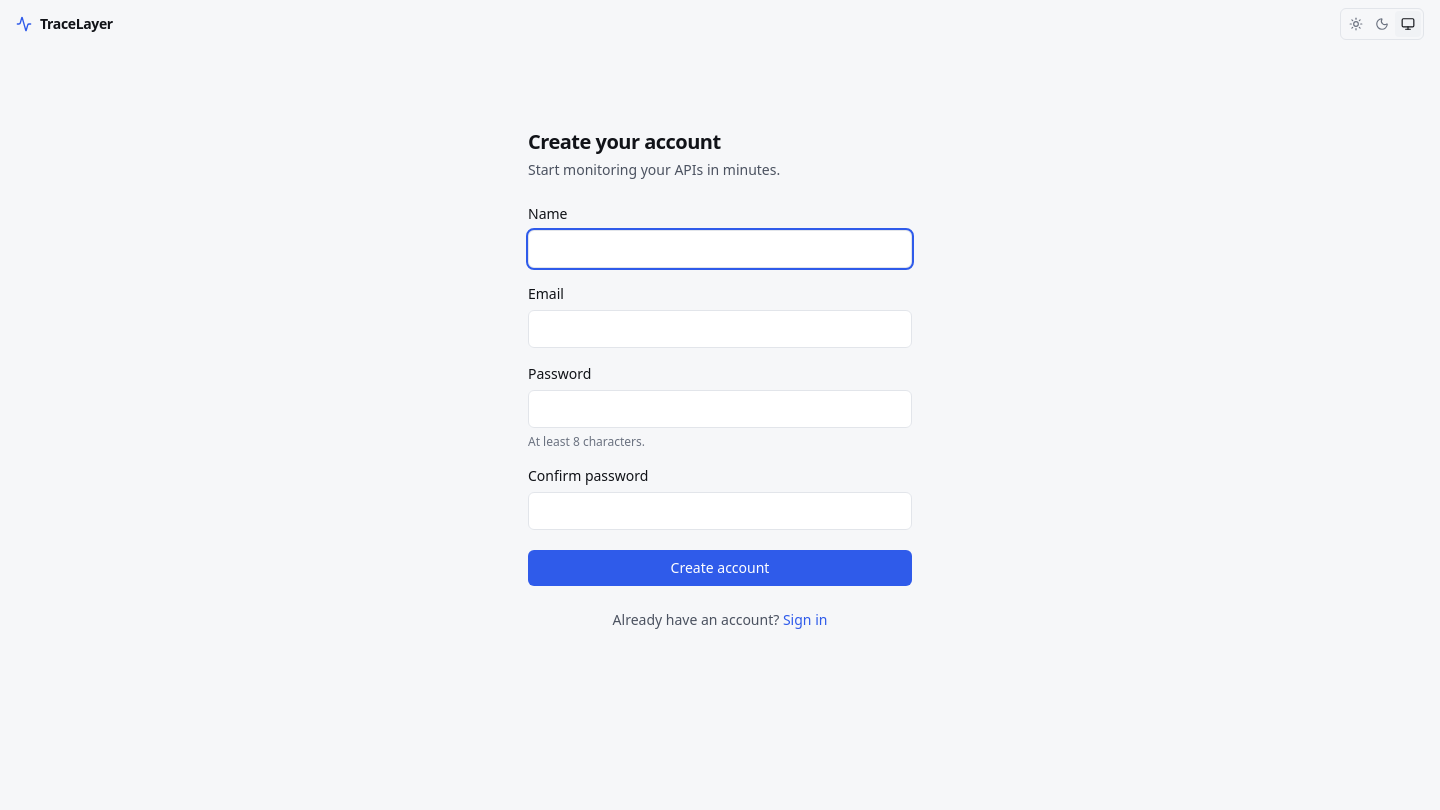
Test: create account › shows a duplicate-email conflict on the email field
In the field labelled "Name": (720, 249) [528, 230, 912, 268], type "Ada Lovelace"
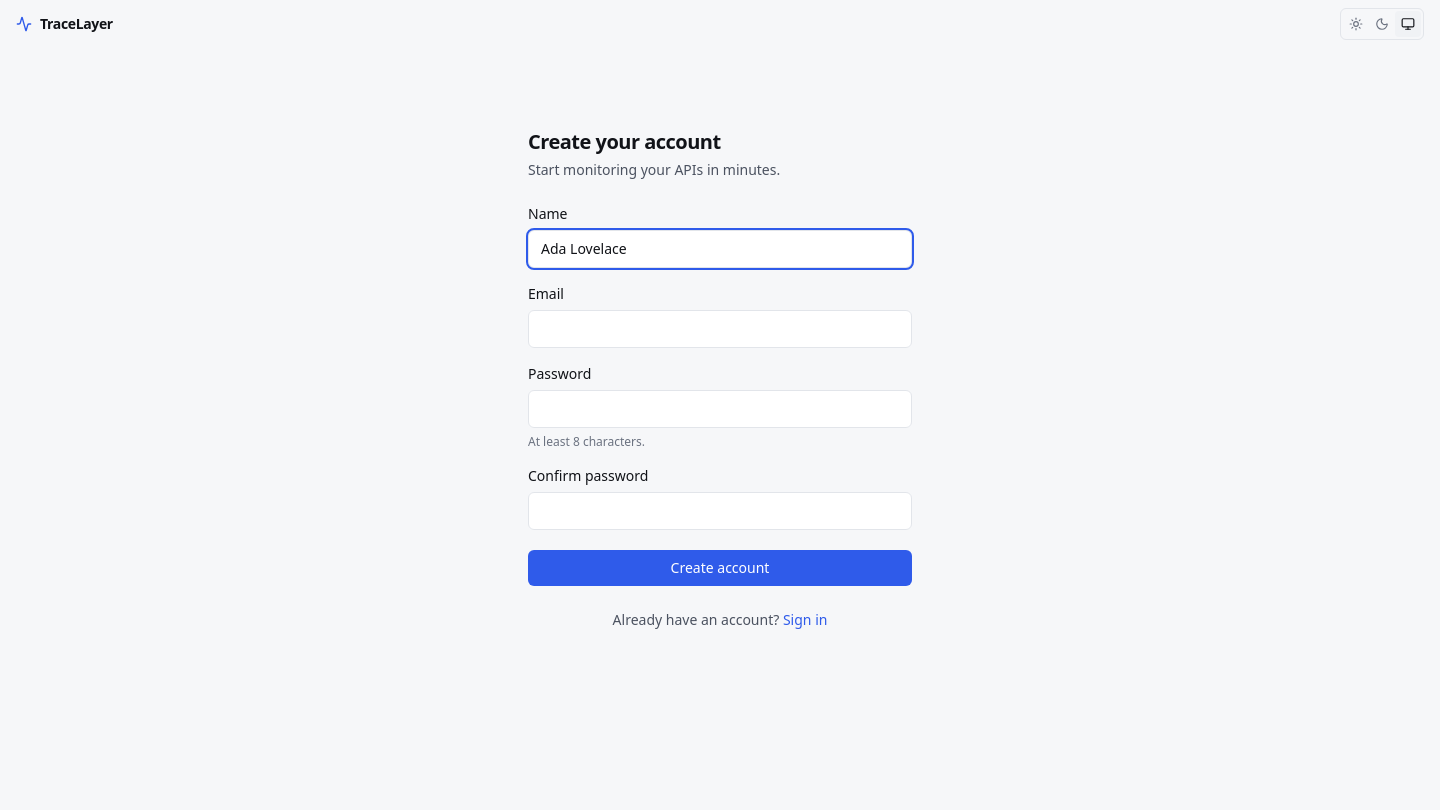
In the field labelled "Email": (720, 329) [528, 310, 912, 348], type "ada@example.com"
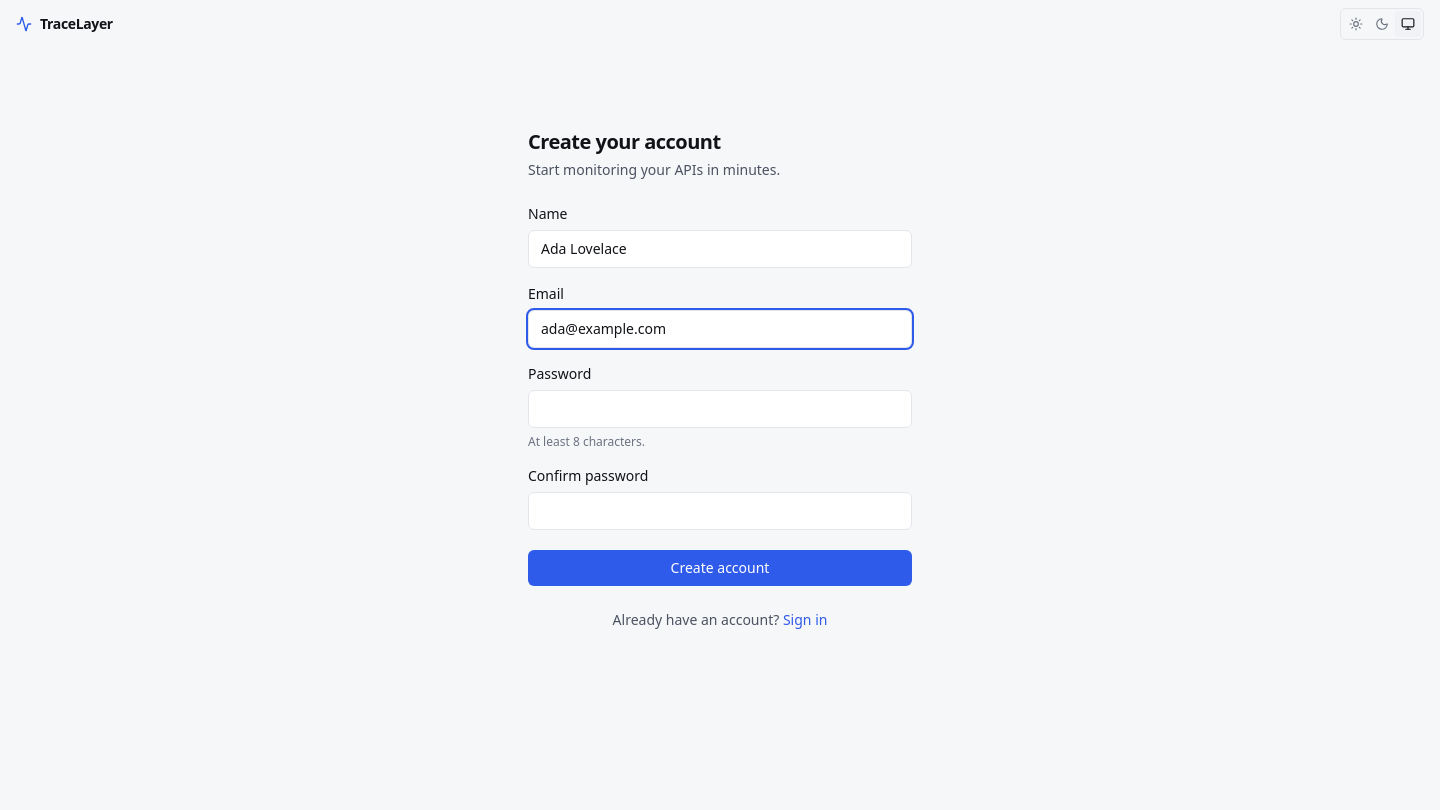
In the password field labelled "Password": (720, 409) [528, 390, 912, 428], type "correct-horse-battery"
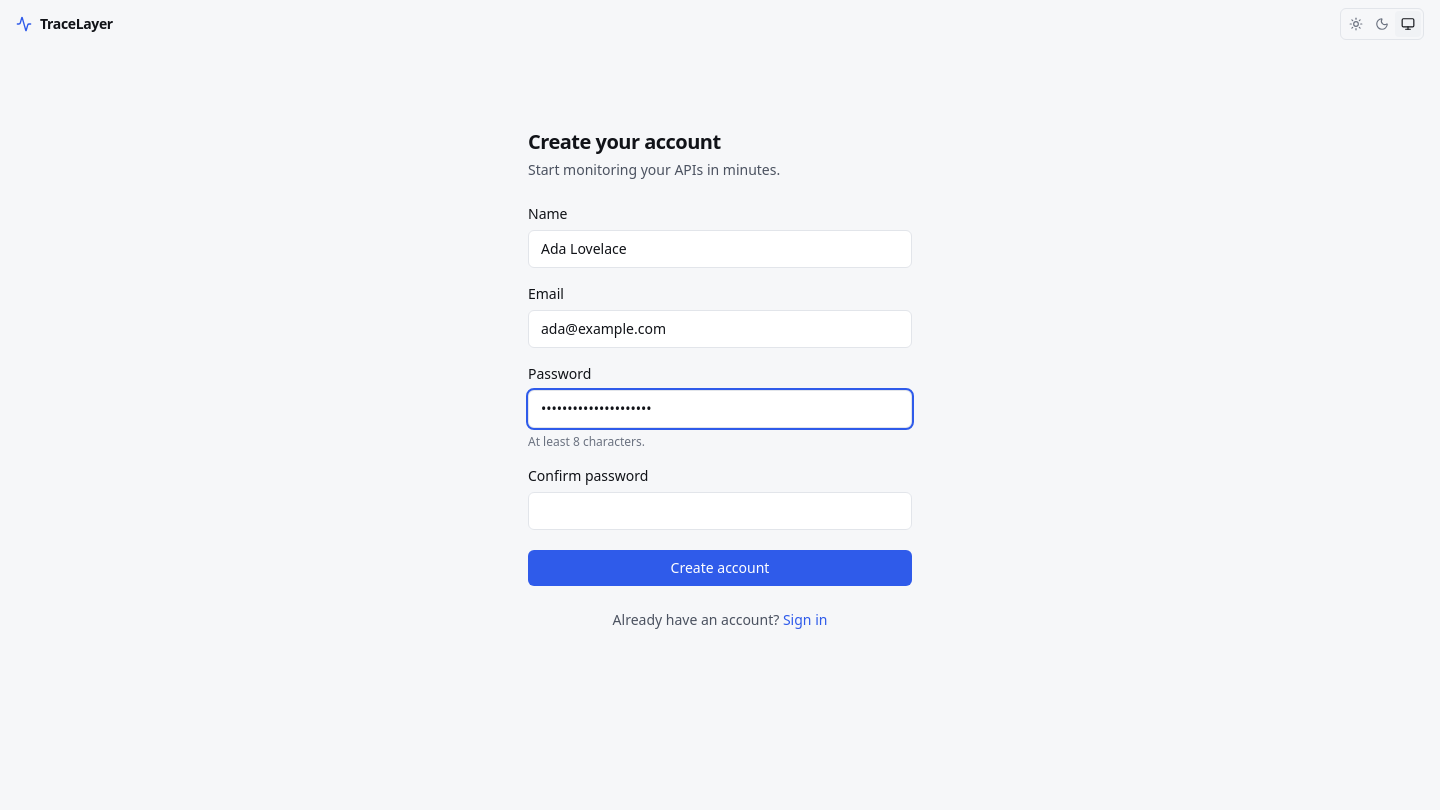
In the password field labelled "Confirm password": (720, 511) [528, 492, 912, 530], type "correct-horse-battery"
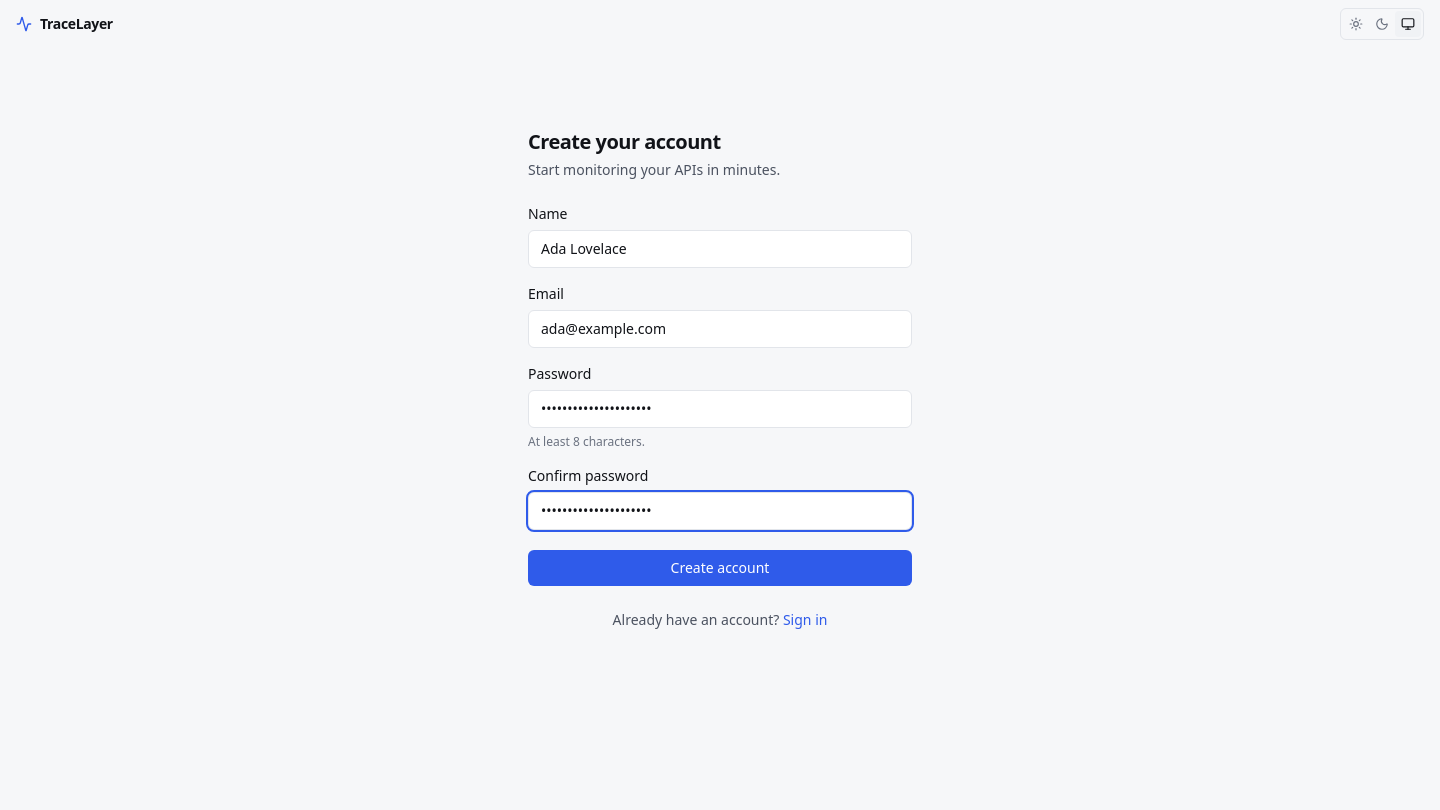
Click the button "Create account": (720, 568) [528, 550, 912, 586]
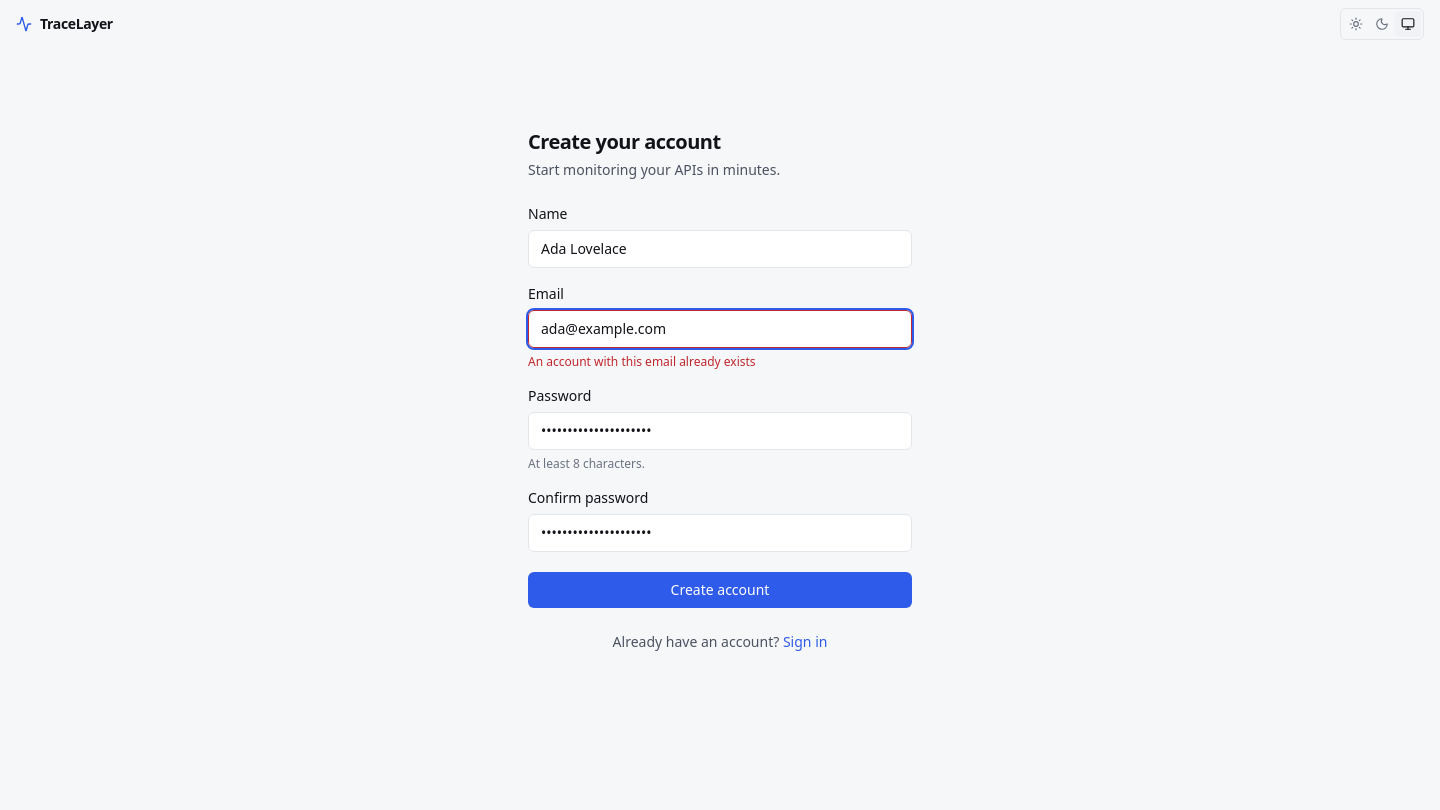
Now the text "An account with this email already exists" is shown, box [528, 353, 756, 370]
